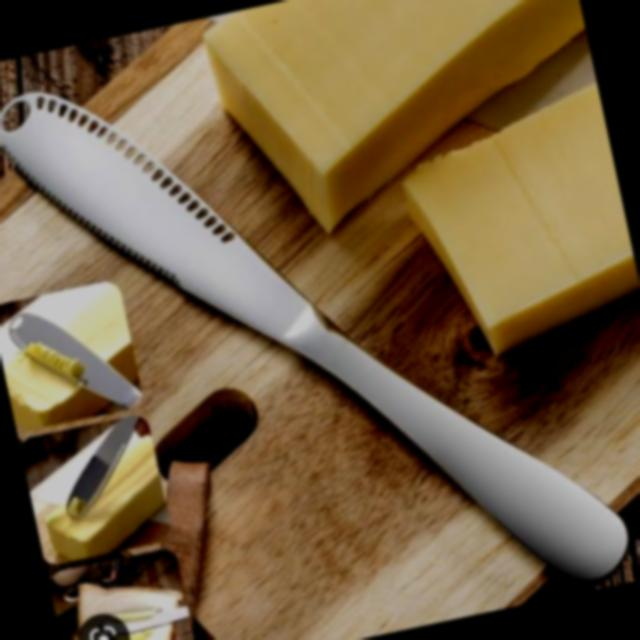knife: (0, 66, 640, 599)
